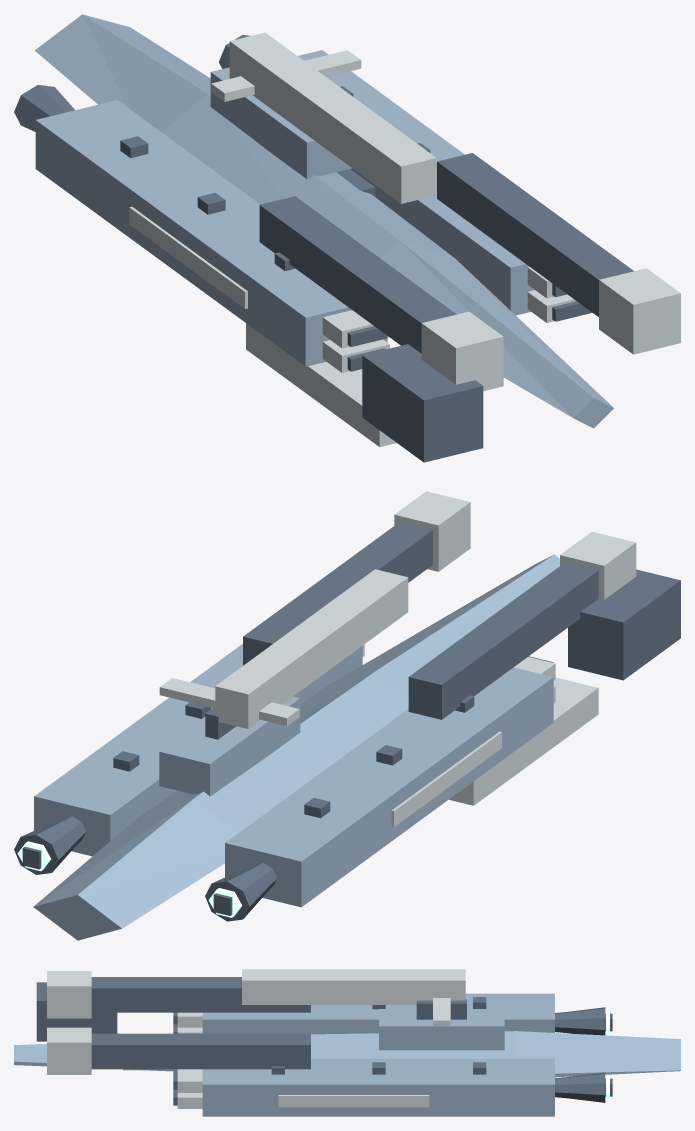
3 renders of one model, top to bottom at view 1: azimuth 30°, elevation 25°; view 2: azimuth 150°, elevation 25°; view 3: azimuth 270°, elevation 25°, orthographic. The views are drawn at different scales.
Size of the model in its own units: 7.38 by 4.4 by 21.9.
